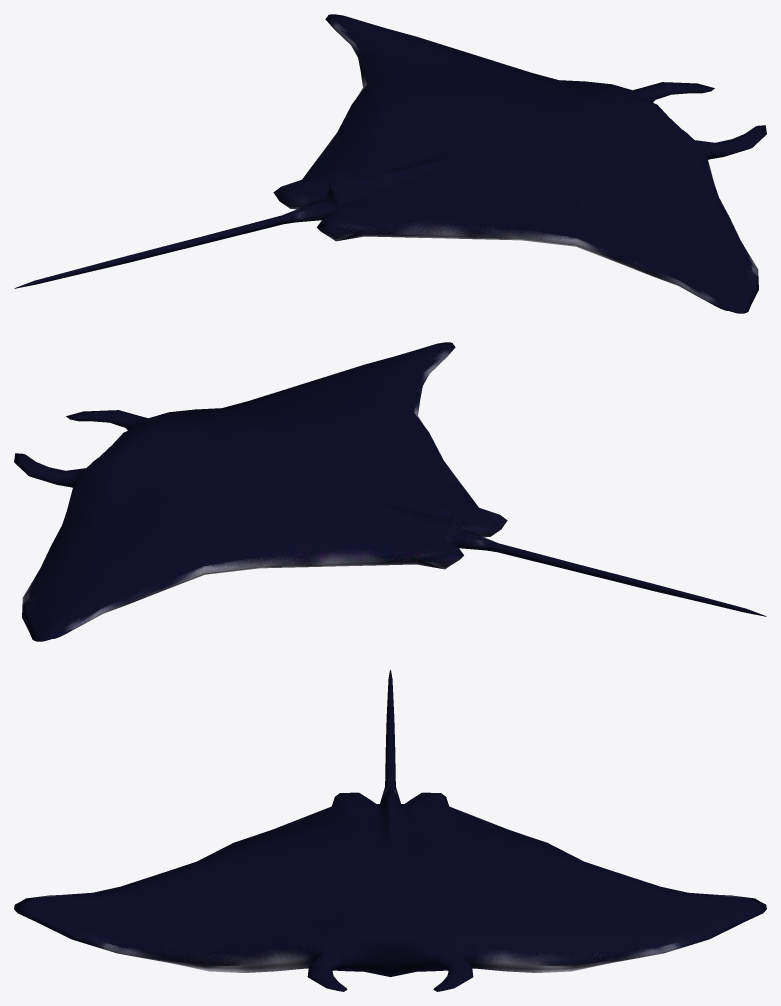
File: manta.glb
3 views of the same model, one above another, from view 1: azimuth 30°, elevation 25°; view 2: azimuth 150°, elevation 25°; view 3: azimuth 270°, elevation 25° (orthographic). The views are drawn at different scales.
Parts seen in each view (by area): view 1: baked_Object_14; view 2: baked_Object_14; view 3: baked_Object_14.
Boxes of the visible parts, bbox=[...] form: baked_Object_14: bbox=[14, 14, 766, 313]; baked_Object_14: bbox=[14, 342, 766, 641]; baked_Object_14: bbox=[14, 670, 766, 991].
Bounding box in the file's own units: 1 × 0.0824 × 0.9753.
Materials: 1 (1 with a texture image).
